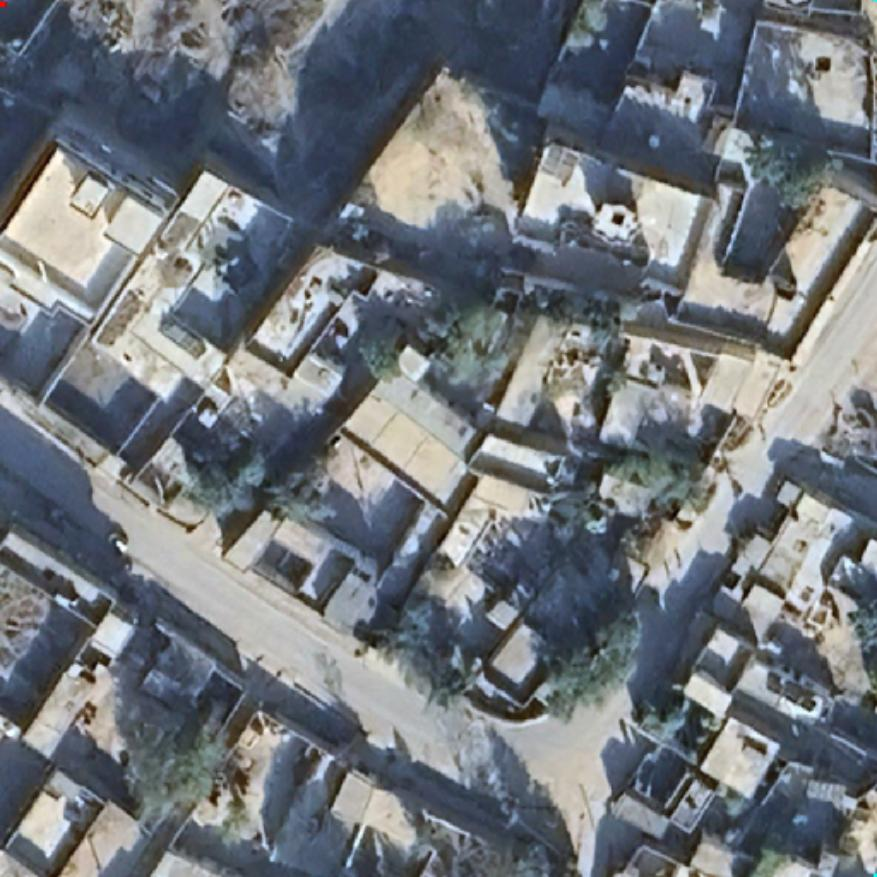Solarpanel: (160, 319, 210, 364), (537, 139, 582, 187), (806, 778, 847, 807)
